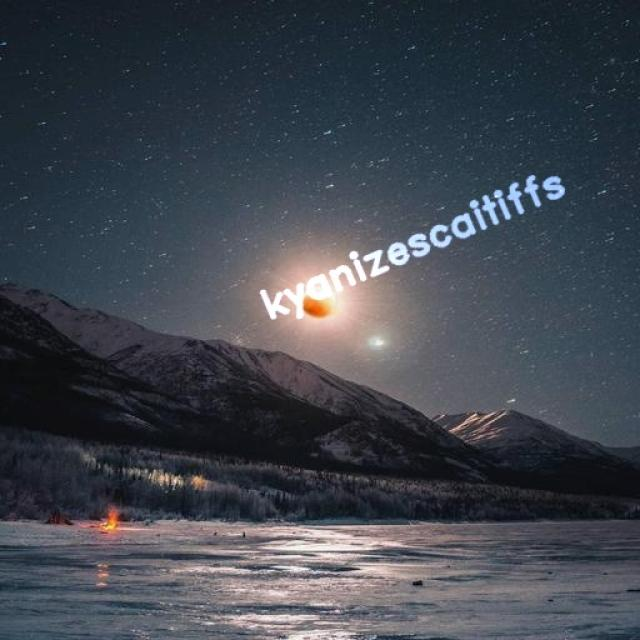watermark: (258, 161, 568, 326)
